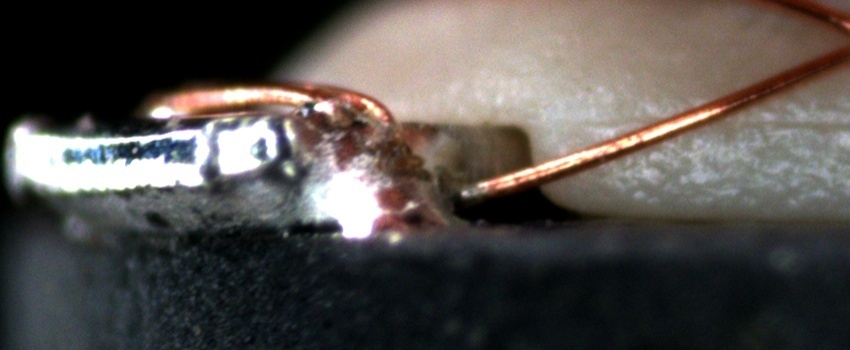CL: (832, 13, 850, 63)
DL: (562, 90, 850, 154)
TE: (144, 77, 399, 134)
